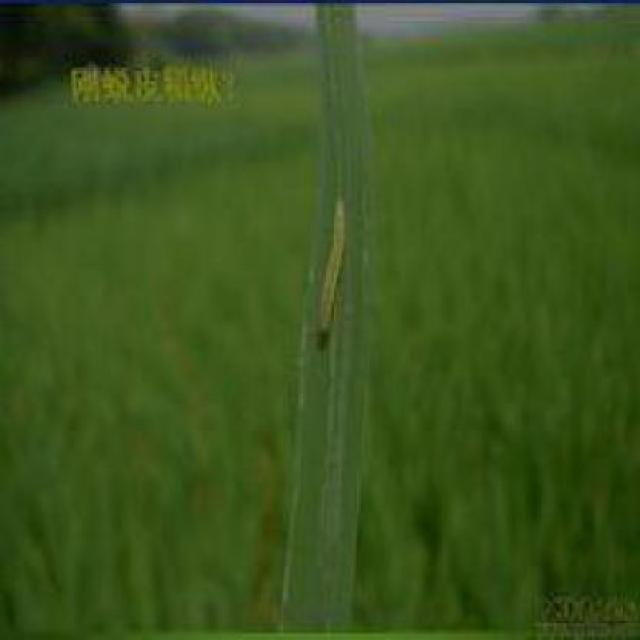leaf-folder: (310, 184, 358, 358)
